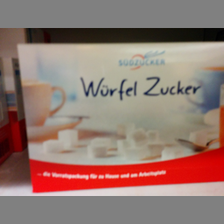tomato_sauce: (16, 40, 224, 194)
